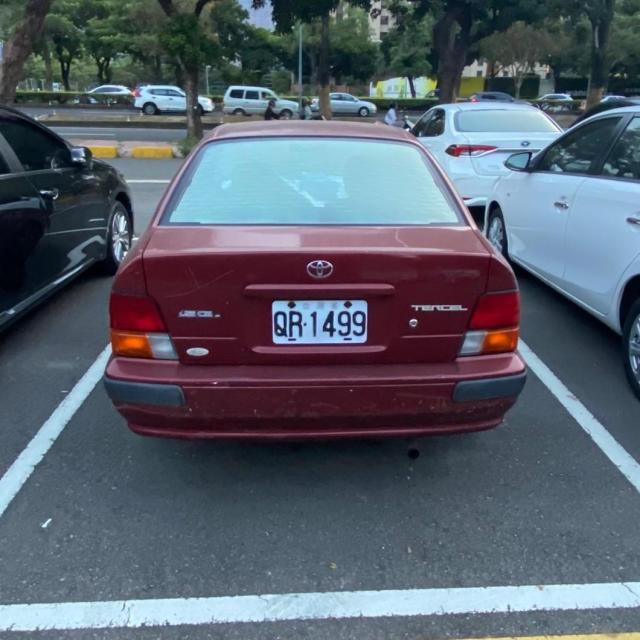W: (267, 292, 374, 349)
